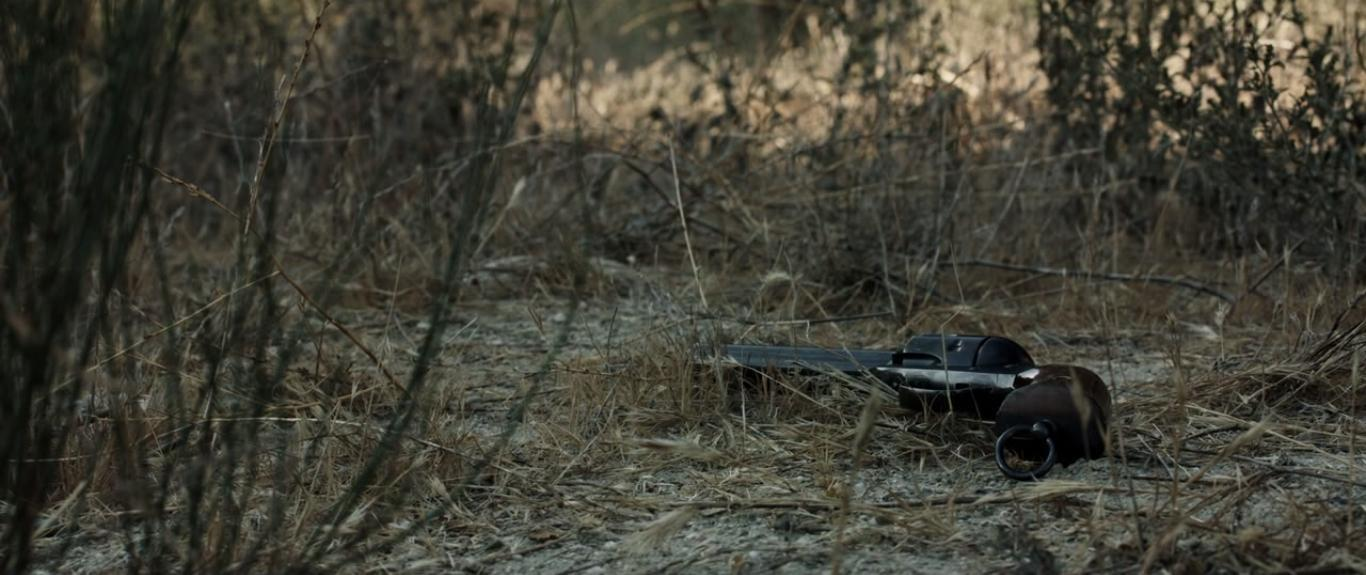gun: (660, 290, 1148, 492)
